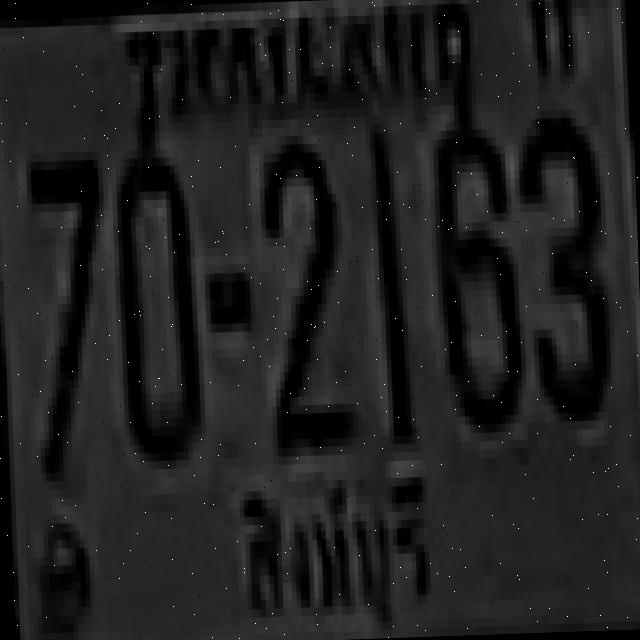0: (112, 148, 199, 452)
1: (367, 124, 409, 436)
2: (258, 130, 344, 444)
3: (512, 108, 608, 414)
6: (428, 111, 518, 425)
7: (25, 151, 108, 473)
SingBuri: (224, 461, 455, 638)
